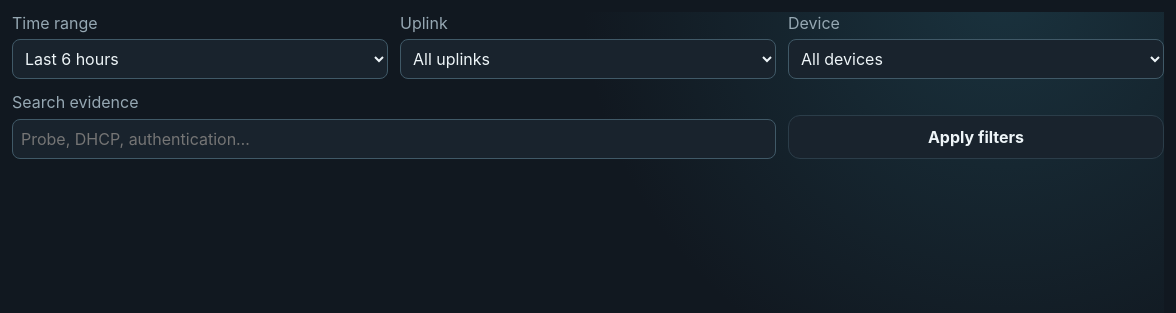
it: network history evidence view › validates custom UTC windows and does not send an inverted range
The width and height of the screenshot is (1176, 313).
Select "Custom UTC interval" in the dropdown labelled "Time range" at (200, 59), box [12,39,388,79]
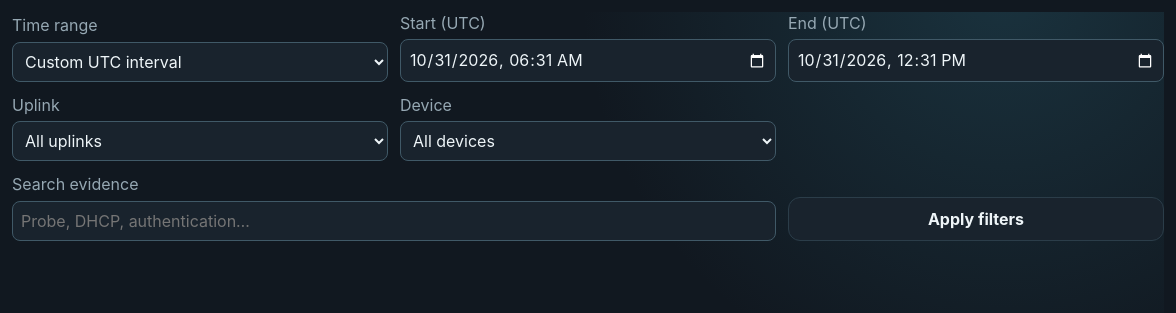
Replace the text in the field labelled "Start (UTC)" with "2026-09-29T12:00" at (588, 61), box [400,39,776,82]
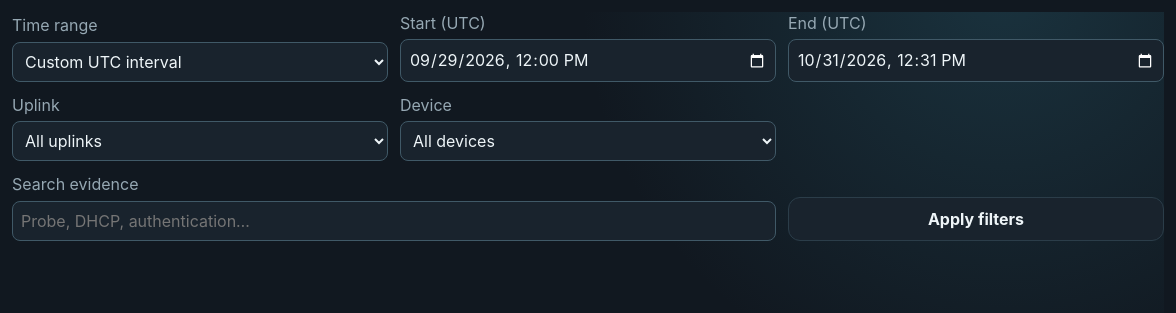
Replace the text in the field labelled "End (UTC)" with "2026-09-29T11:00" at (976, 61), box [788,39,1164,82]
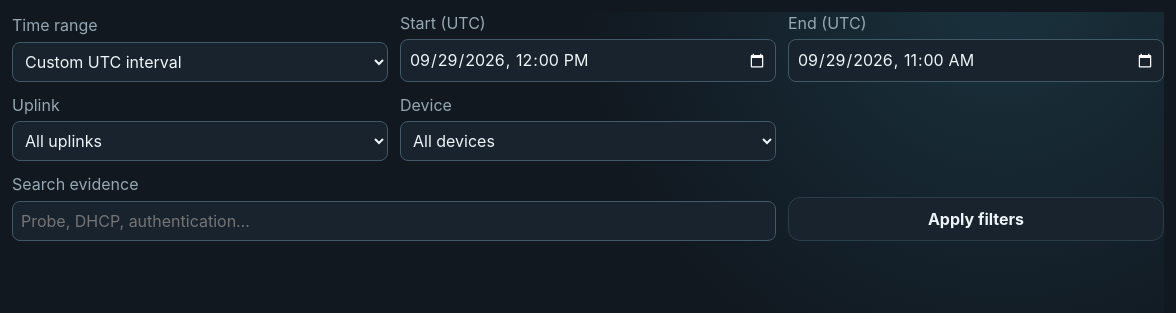
Click the button "Apply filters".
click(976, 219)  # box [788,197,1164,241]
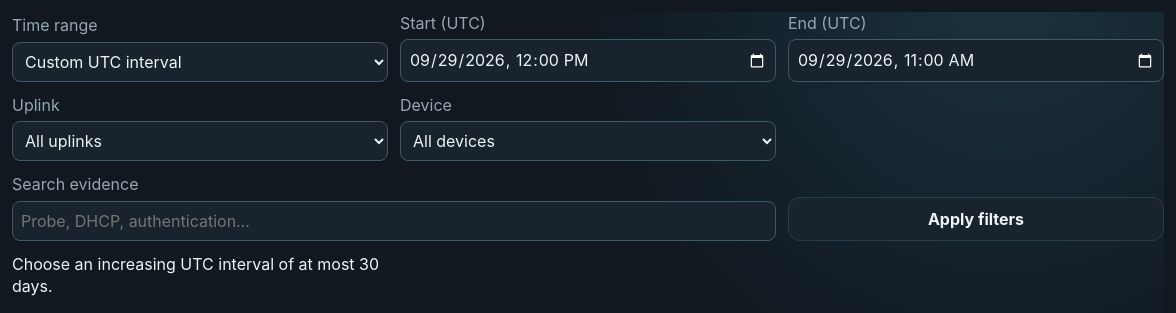
Now the message shows "increasing UTC interval", box [12,254,379,296]
